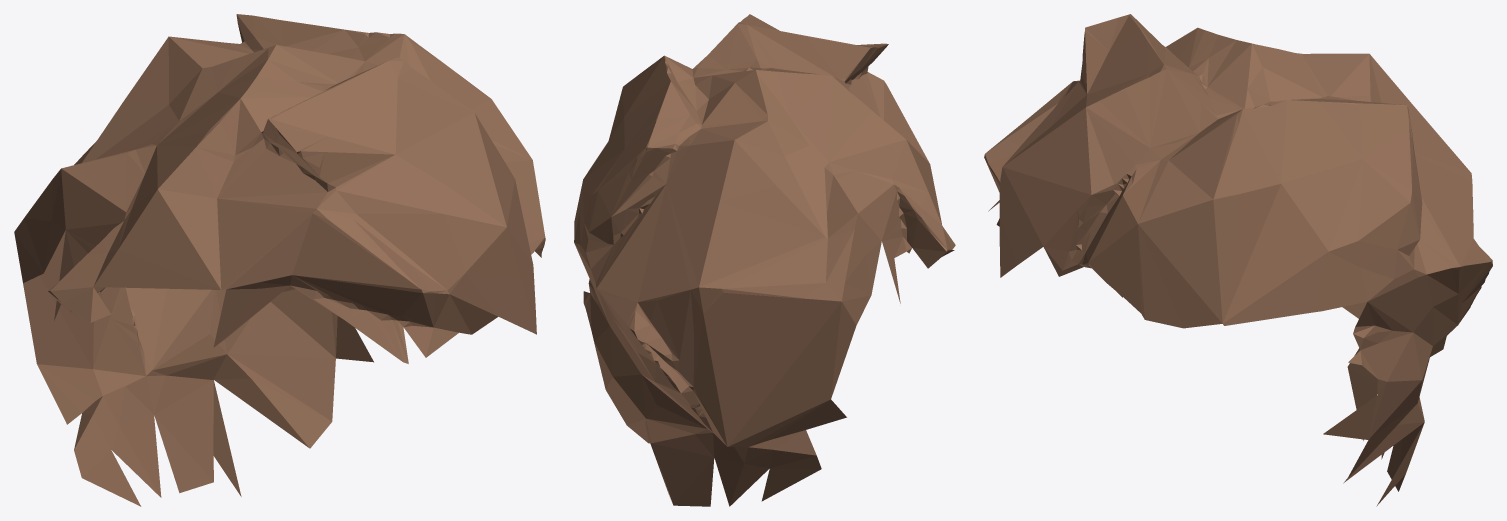
File: Hair_medium_LOD1.glb
3 renders of one model, left to right at view 1: azimuth 30°, elevation 25°; view 2: azimuth 150°, elevation 25°; view 3: azimuth 270°, elevation 25°, orthographic. The views are drawn at different scales.
Parts seen in each view (by area): view 1: Hair_medium_LOD1; view 2: Hair_medium_LOD1; view 3: Hair_medium_LOD1.
Boxes of the visible parts, box(x1,y1,x2,y2) form: Hair_medium_LOD1: box(14, 14, 545, 506); Hair_medium_LOD1: box(574, 14, 955, 506); Hair_medium_LOD1: box(984, 14, 1492, 506).
Size of the model in its own units: 0.23 by 0.2494 by 0.2539.
